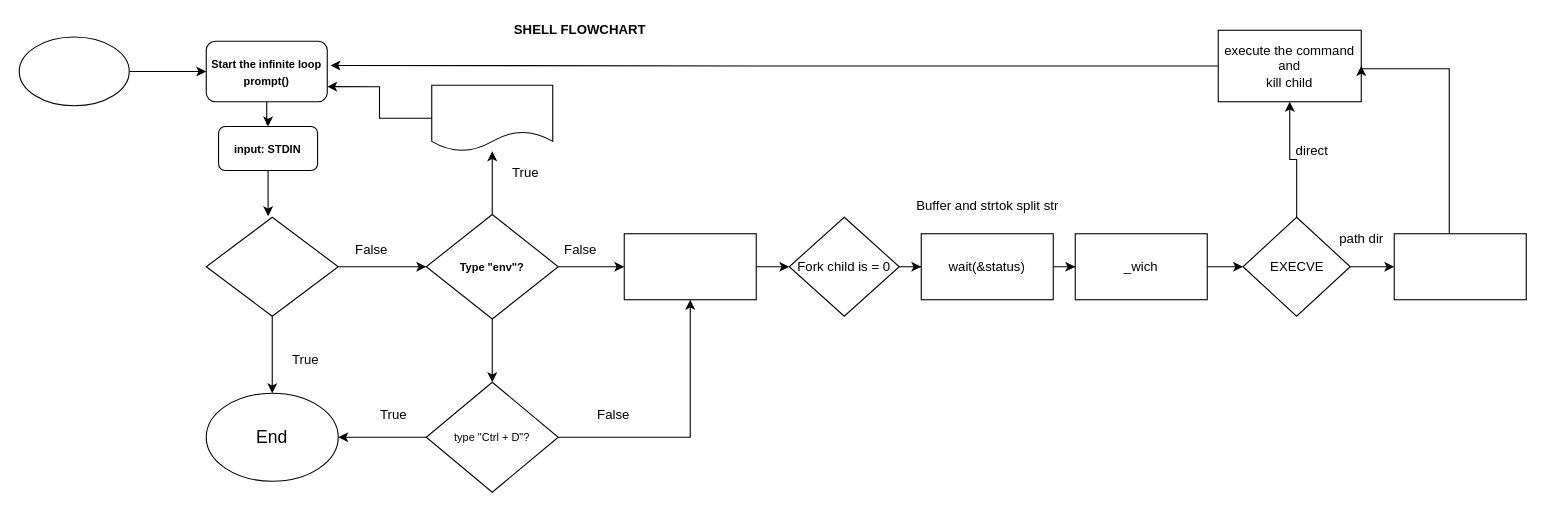
Some shapes in this 1546 by 512 pixel diagram are drawn without their labels. Here are the shapes that lost their labels. From the top down, the centre of each, then its label:
point (73, 71): execute our shell
point (492, 117): print "env"
point (271, 266): Type "exit"?
point (689, 266): Fork(child)
point (1459, 266): Got the PATH of the command
